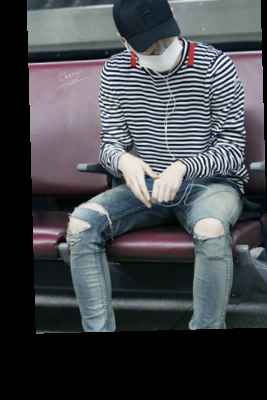mask_weared_incorrect: (109, 4, 198, 80)
